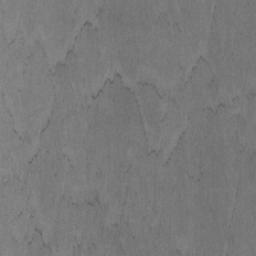Silk spot: (2, 0, 256, 256)
